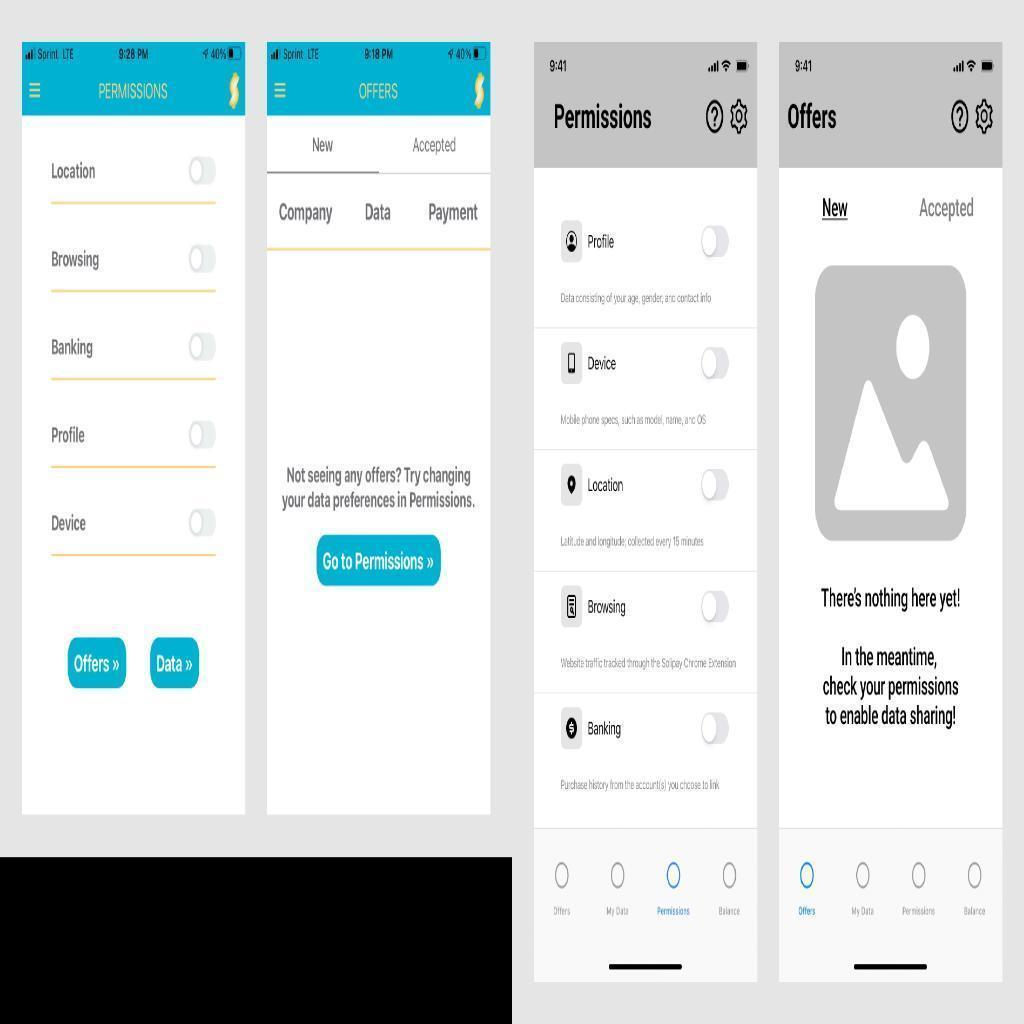button: (316, 534, 441, 586), (68, 637, 125, 688), (150, 637, 199, 689)
icon: (730, 98, 748, 135), (975, 98, 993, 135), (951, 99, 968, 135), (706, 99, 723, 134), (564, 227, 580, 255), (566, 592, 578, 620), (565, 716, 578, 741), (27, 81, 42, 100), (566, 349, 576, 376), (273, 81, 287, 99), (567, 473, 577, 497)
label: (553, 100, 652, 131), (97, 79, 169, 102), (787, 101, 838, 130), (277, 201, 333, 226), (49, 248, 102, 274), (920, 197, 974, 221), (427, 201, 480, 224), (410, 135, 458, 156), (51, 336, 94, 359), (51, 161, 96, 181), (51, 512, 88, 534), (358, 81, 398, 100), (50, 425, 86, 446), (587, 598, 626, 617), (587, 719, 622, 740), (587, 475, 624, 494), (364, 200, 391, 224), (822, 197, 848, 217), (587, 232, 615, 250), (588, 354, 617, 371), (901, 903, 936, 917), (656, 905, 691, 918), (311, 136, 335, 153), (718, 905, 743, 917), (850, 905, 875, 917), (607, 904, 629, 917), (963, 906, 986, 917), (798, 904, 817, 916), (552, 906, 572, 917)
radio: (967, 861, 983, 890), (911, 862, 927, 889), (799, 861, 814, 889), (856, 861, 871, 889), (666, 861, 680, 890), (555, 862, 569, 889), (723, 862, 737, 889), (611, 861, 624, 889)
switch: (701, 347, 729, 379), (701, 590, 729, 622), (701, 712, 729, 744), (702, 469, 729, 501), (702, 226, 729, 257), (189, 508, 217, 537), (189, 332, 216, 361), (189, 420, 216, 448), (190, 156, 216, 185), (189, 246, 216, 273)
